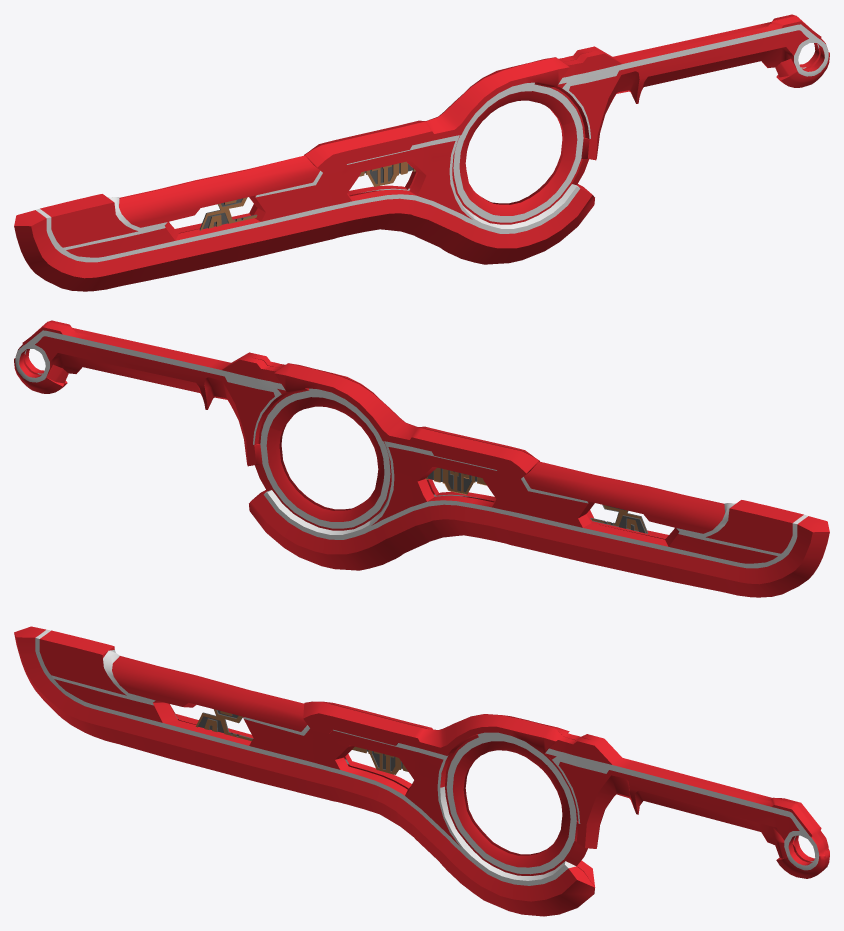
The model's file is Monado boy.fbx.
3 views of the same model, one above another, from view 1: azimuth 30°, elevation 25°; view 2: azimuth 150°, elevation 25°; view 3: azimuth 330°, elevation 25° (orthographic).
Parts seen in each view (by area): view 1: Circle; view 2: Circle; view 3: Circle.
Boxes of the visible parts, x1=… form: Circle: x1=14, y1=14, x2=829, y2=291; Circle: x1=14, y1=320, x2=829, y2=597; Circle: x1=14, y1=626, x2=829, y2=916.
Bounding box in the file's own units: 730 × 167 × 25.34.
